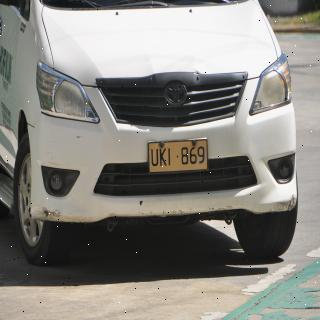license: (149, 140, 209, 174)
